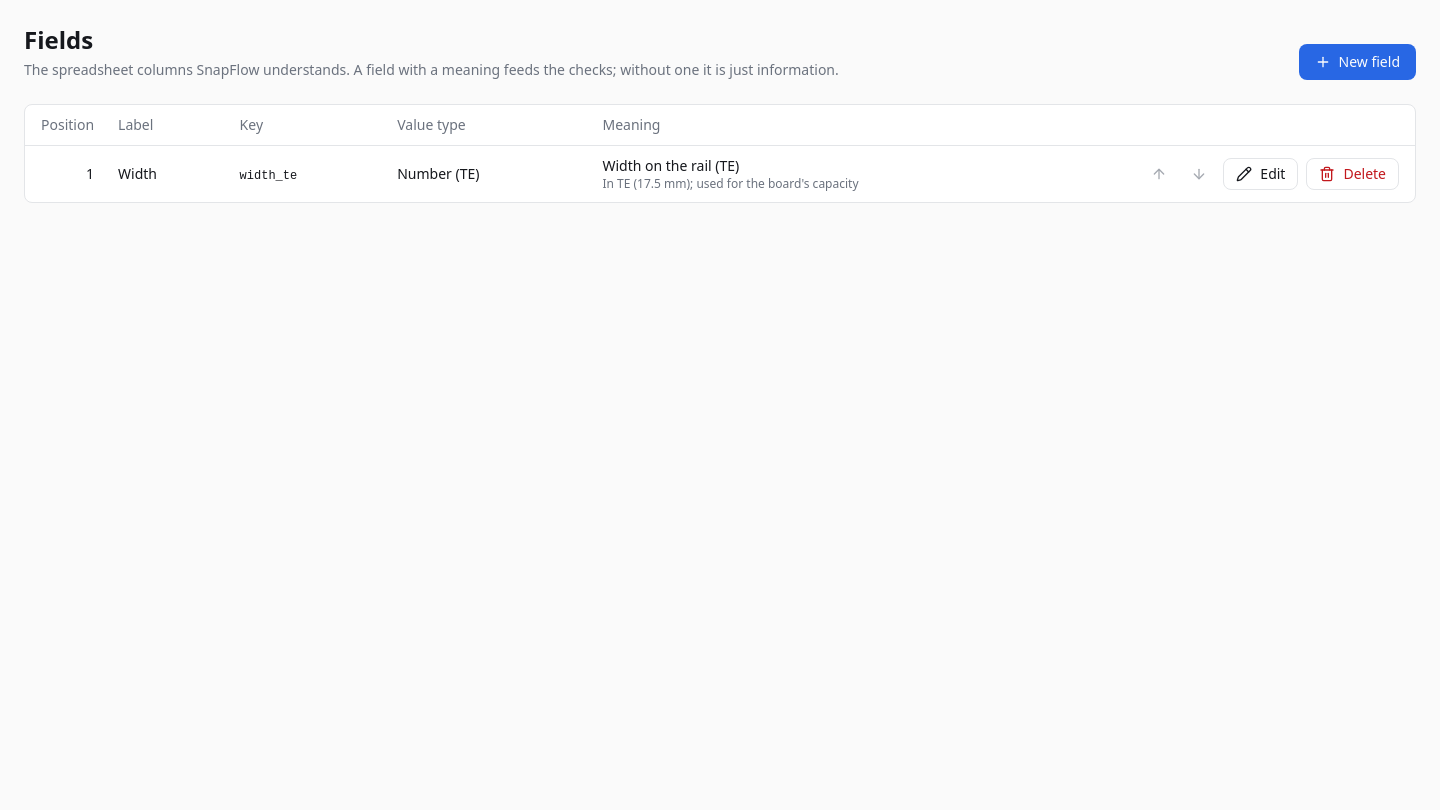
Test: CatalogFieldsPage › locks key and type of a field categories link, and shows the conflict the server reports
Click the button "Edit" at (1261, 174), box [1223,158,1298,190]
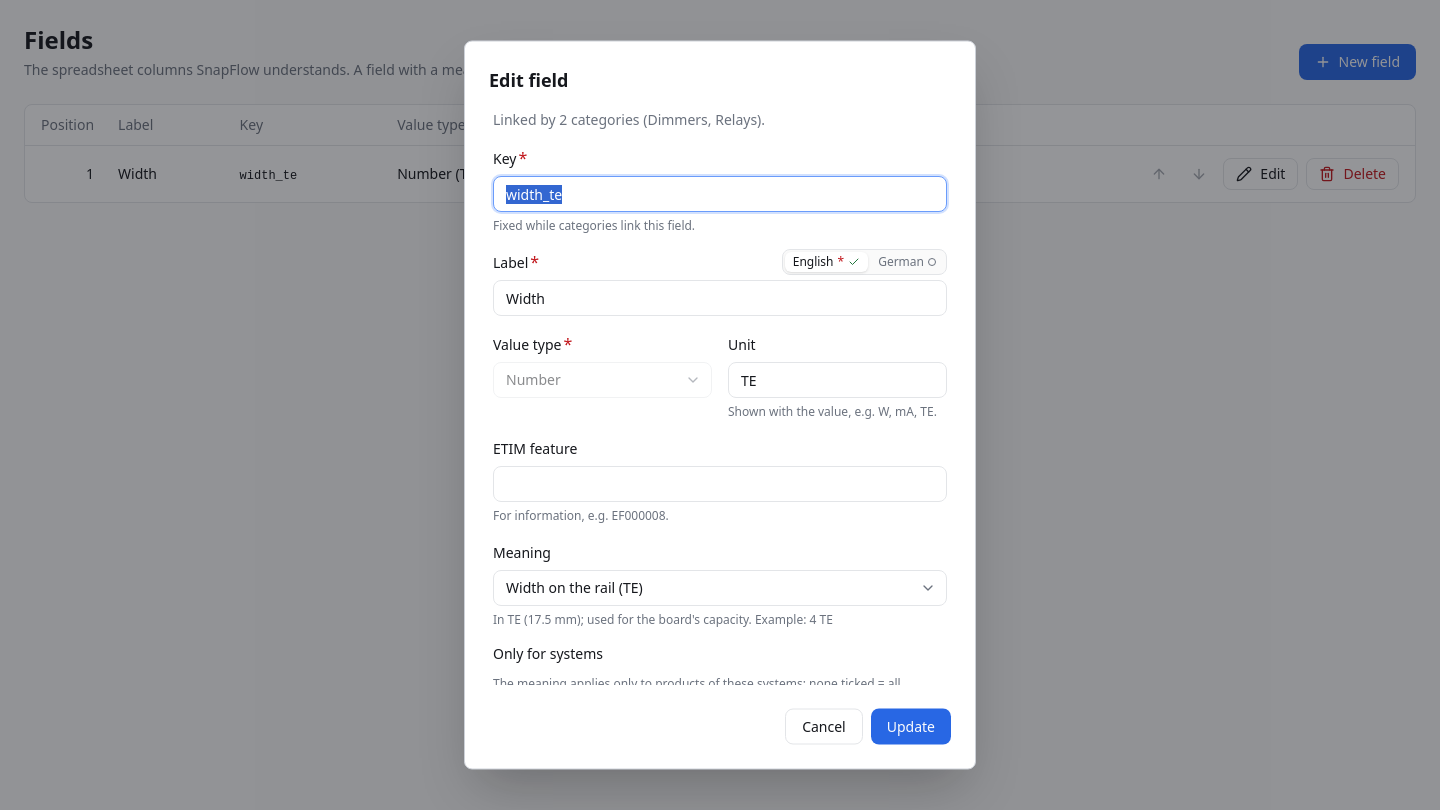
Result: the text with test id "field-in-use" reads "Linked by 2 categories (Dimmers, Relays)." at [493,110,765,128]
Result: the dropdown named "Value type" is disabled at [493,362,712,398]
Replace the text in the field labelled "Label" with "Rail width" at (720, 298), box [493,280,947,316]
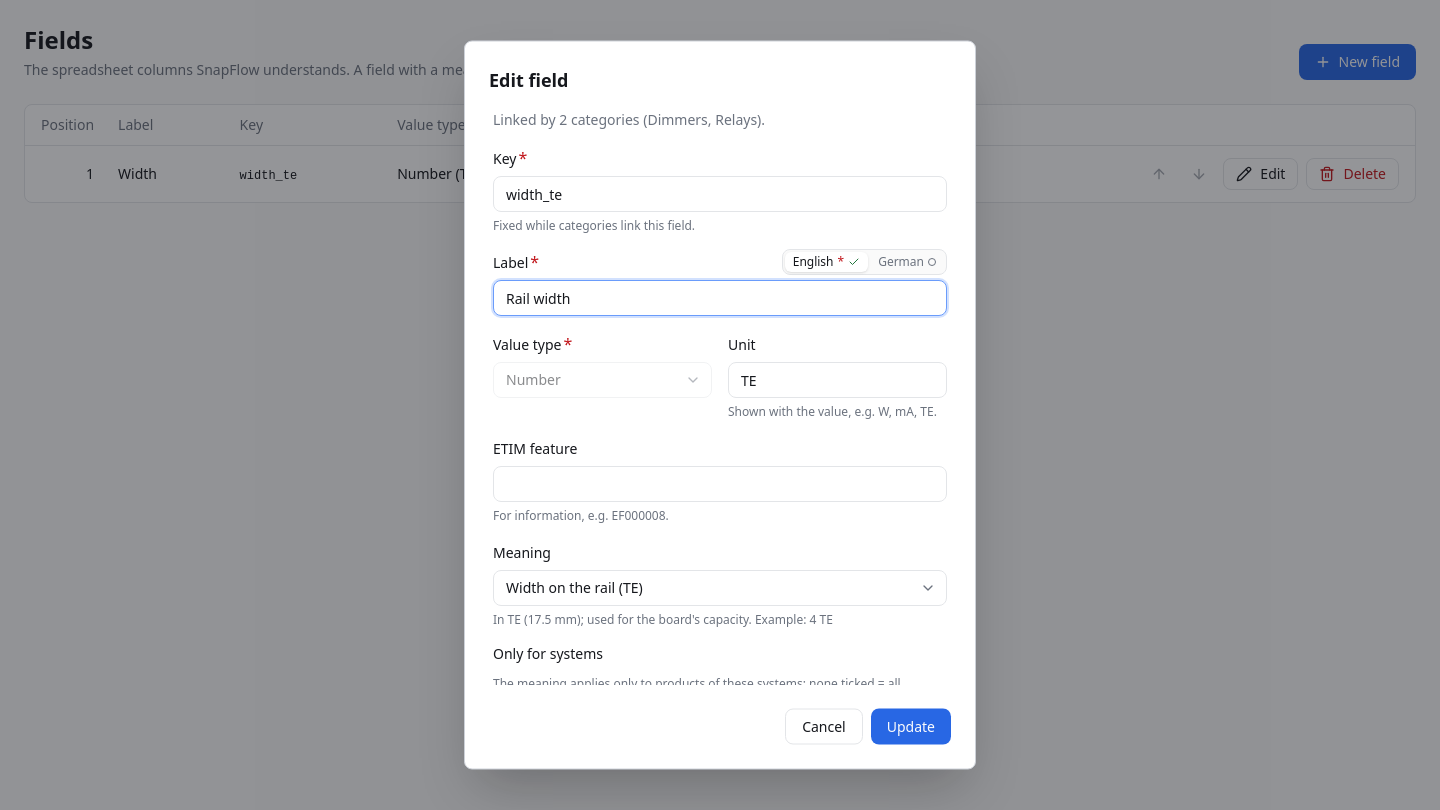
Click the button "Update" at (911, 726), box [871,708,951,744]
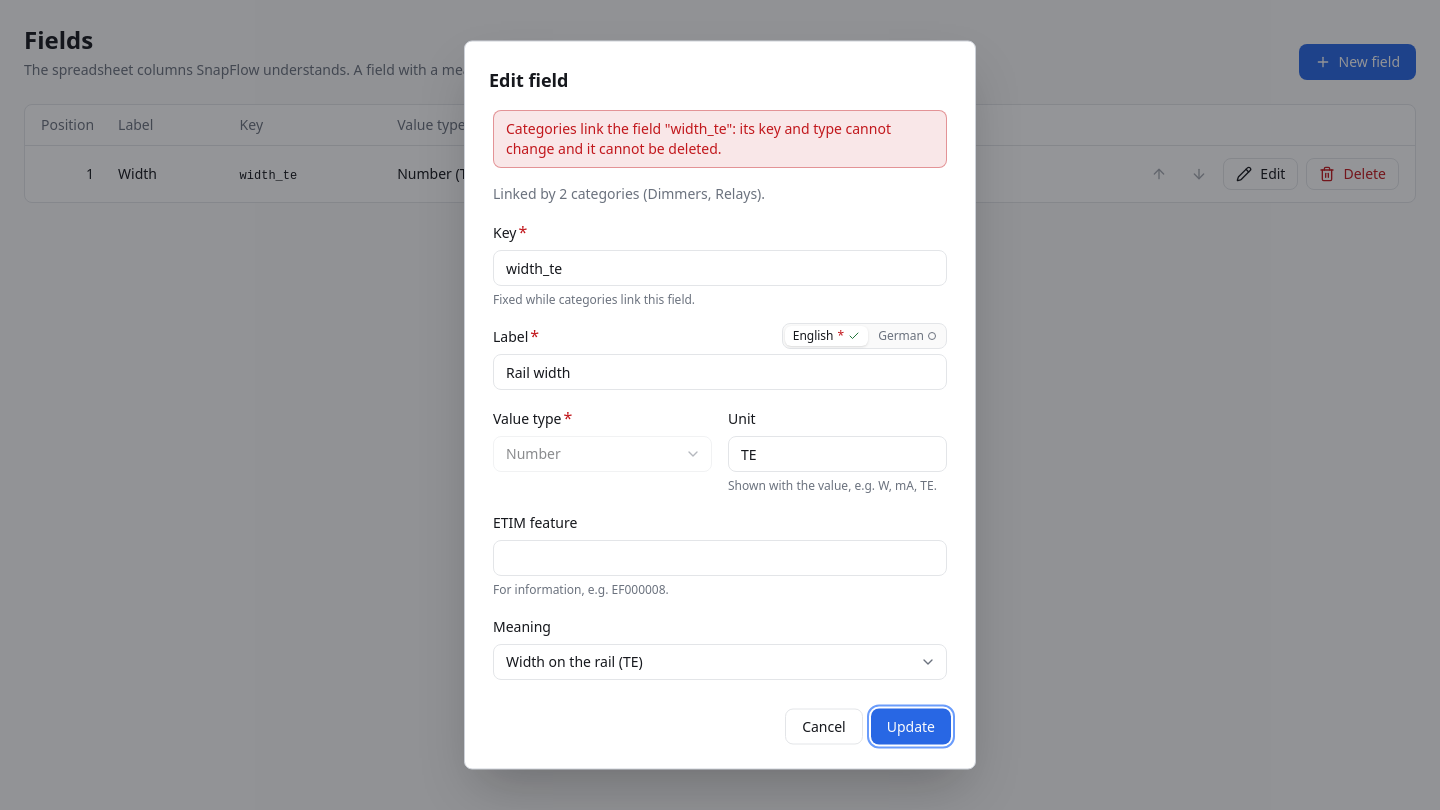
Result: the text "Categories link the field \"width_te\"" is shown at [506,118,891,158]
